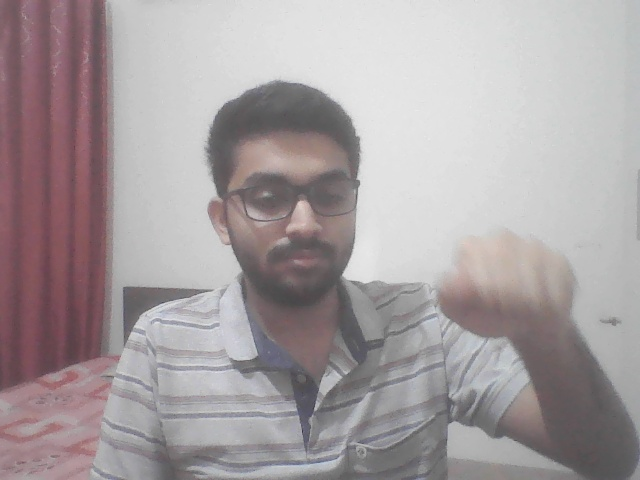yes: (421, 211, 590, 349)
